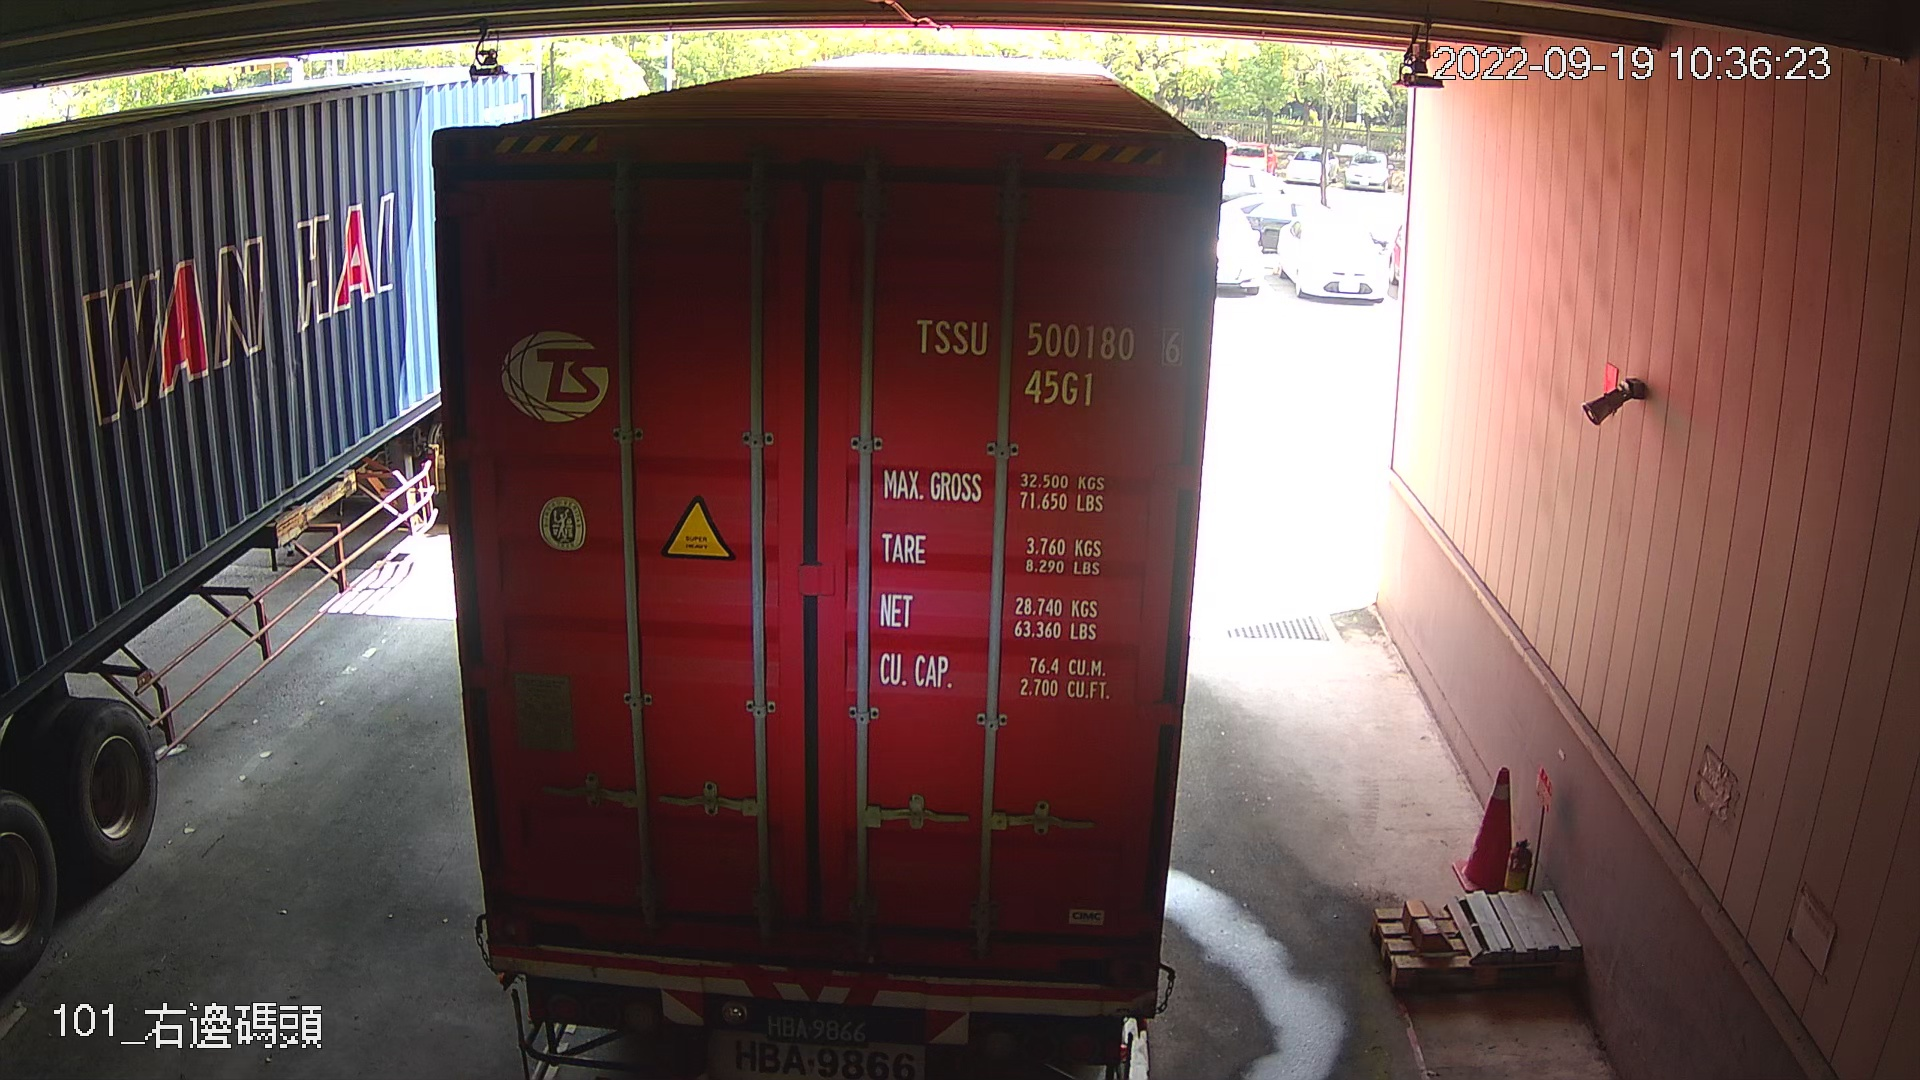container: (897, 298, 1192, 423)
